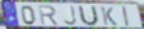0: (20, 4, 37, 26)
I: (121, 5, 131, 28)
J: (63, 6, 78, 27)
K: (100, 6, 119, 27)
R: (37, 5, 60, 26)
U: (78, 5, 100, 27)
